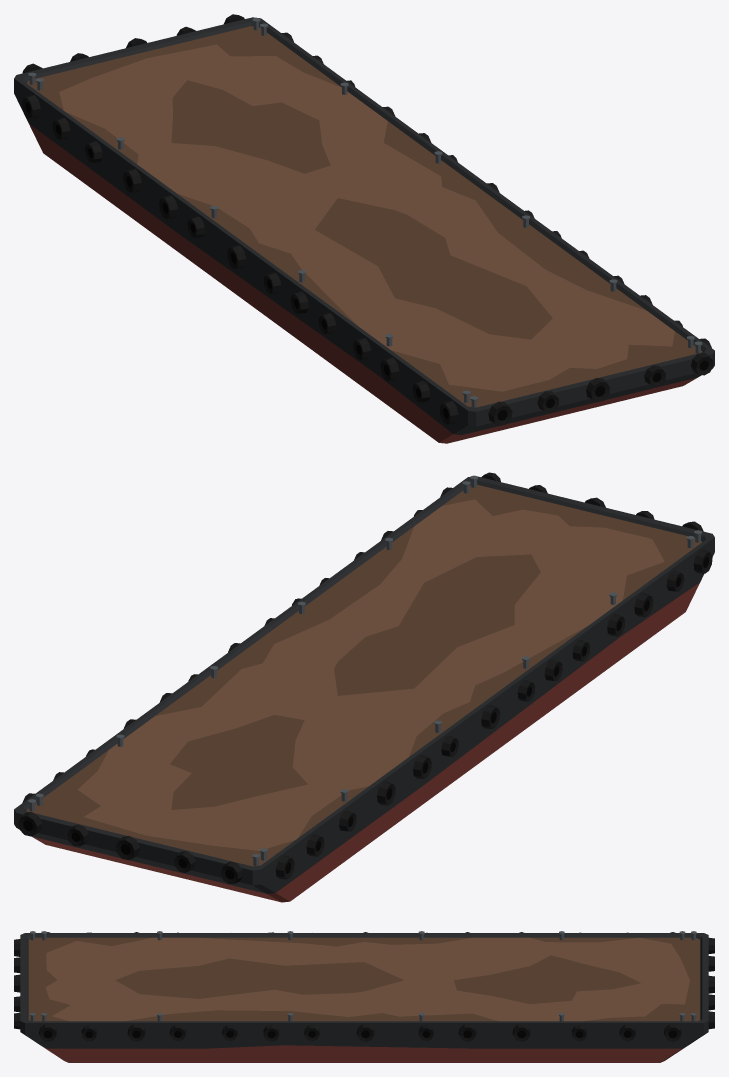
Rendered from SM_Veh_Barge_01.fbx.
The picture shows the model from 3 angles, top to bottom: view 1: azimuth 30°, elevation 25°; view 2: azimuth 150°, elevation 25°; view 3: azimuth 270°, elevation 25°; orthographic projection. The views are drawn at different scales.
Visible parts, largest first — view 1: SM_Veh_Barge_01; view 2: SM_Veh_Barge_01; view 3: SM_Veh_Barge_01.
Part boxes in pixels (<box>): SM_Veh_Barge_01: <box>14,14,714,443</box>; SM_Veh_Barge_01: <box>14,472,714,902</box>; SM_Veh_Barge_01: <box>14,931,714,1062</box>.
Bounding box in the file's own units: 1070 × 233 × 3316.
